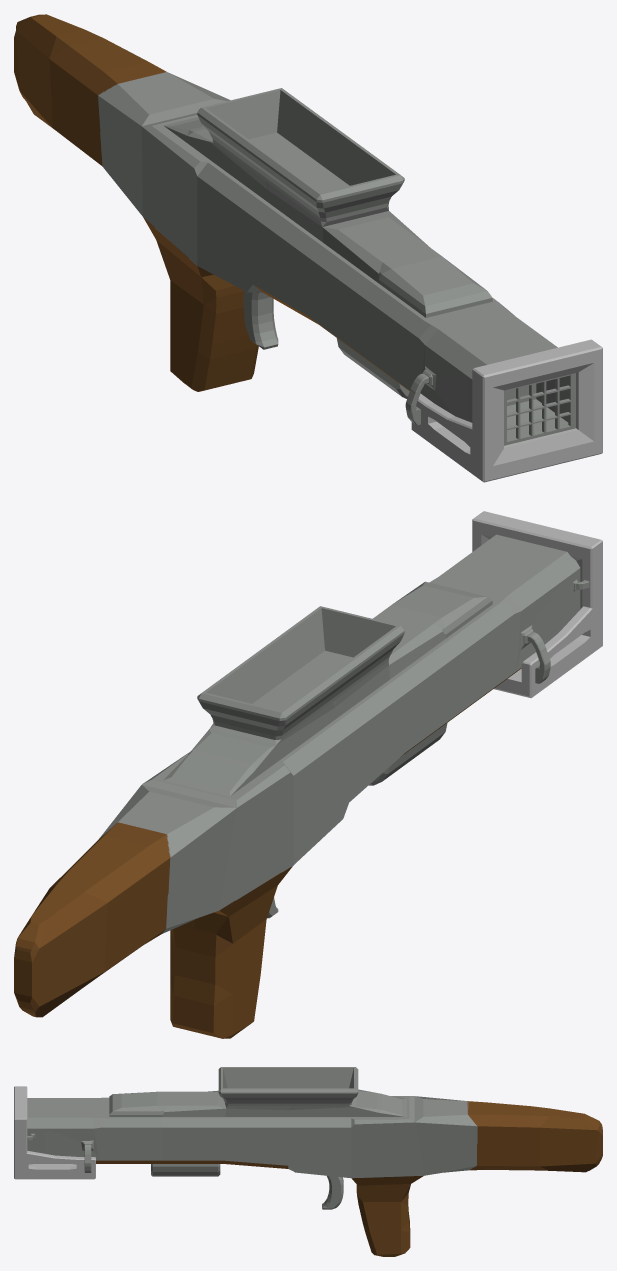
Rendered from french_fry_shotgun.glb.
The picture shows the model from 3 angles, top to bottom: view 1: azimuth 30°, elevation 25°; view 2: azimuth 150°, elevation 25°; view 3: azimuth 270°, elevation 25°; orthographic projection. The views are drawn at different scales.
Parts seen in each view (by area): view 1: Shotgun.001, Fry_Cutter, Pump_Real; view 2: Shotgun.001, Fry_Cutter, Pump_Real; view 3: Shotgun.001, Fry_Cutter, Pump_Real.
Part boxes in pixels (left/top/right/bottom): Shotgun.001: left=14, top=14, right=568, bottom=439; Fry_Cutter: left=405, top=339, right=602, bottom=482; Pump_Real: left=336, top=338, right=409, bottom=398; Shotgun.001: left=14, top=534, right=580, bottom=1038; Fry_Cutter: left=472, top=511, right=602, bottom=697; Pump_Real: left=369, top=723, right=447, bottom=785; Shotgun.001: left=27, top=1067, right=602, bottom=1256; Fry_Cutter: left=14, top=1086, right=95, bottom=1179; Pump_Real: left=151, top=1164, right=220, bottom=1176.
Size of the model in its own units: 0.2894 by 0.6018 by 1.86.
Materials: 3 (3 with a texture image).
